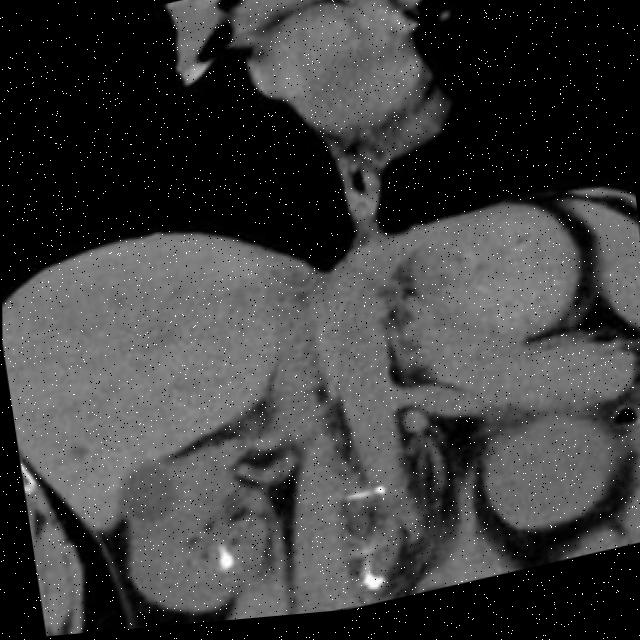Tas_Var: (217, 545, 236, 582)
